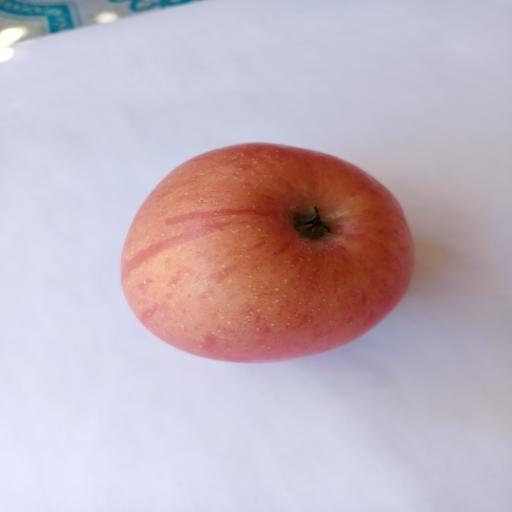apple-ripe: (104, 133, 428, 371)
